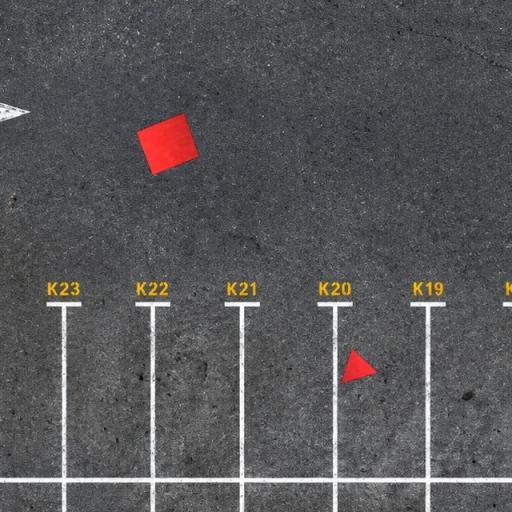RED_SQUARE: (135, 111, 200, 176)
